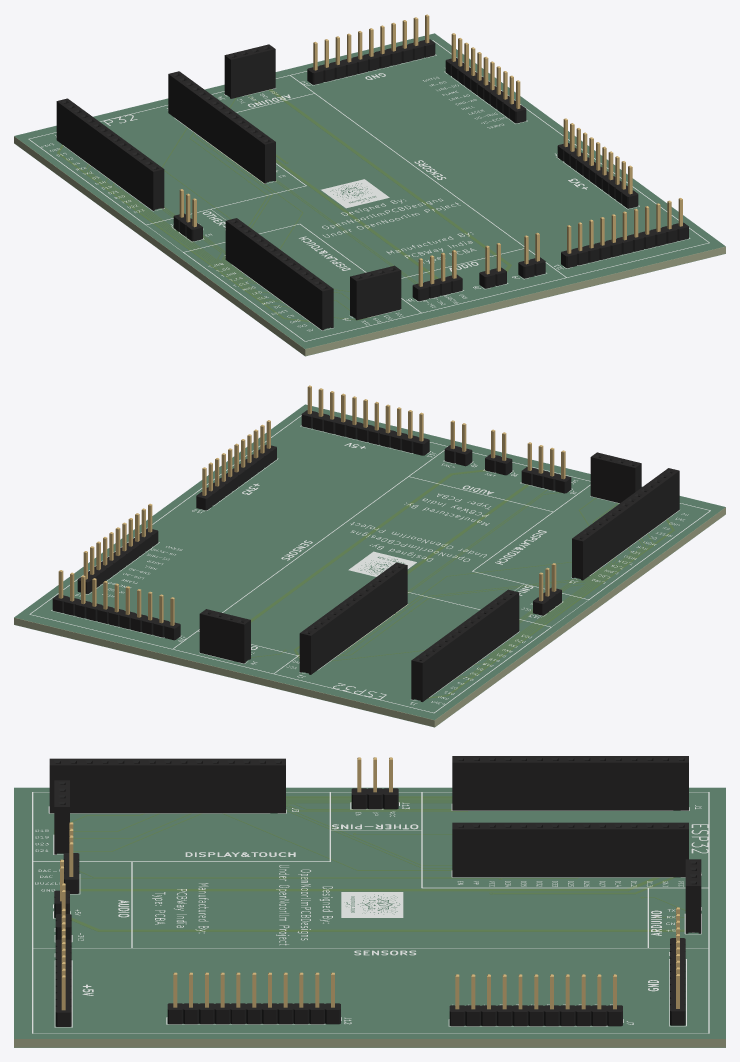
File: esp32connector.glb
3 views of the same model, one above another, from view 1: azimuth 30°, elevation 25°; view 2: azimuth 150°, elevation 25°; view 3: azimuth 270°, elevation 25° (orthographic). The views are drawn at different scales.
Visible parts, largest first — view 1: =>[0:1:1:18], =>[0:1:1:20], =>[0:1:1:3] (×3), =>[0:1:1:11] (×4), =>[0:1:1:17], =>[0:1:1:9] (×2), =>[0:1:1:14], =>[0:1:1:7] (×2), =>[0:1:1:13], =>[0:1:1:5]; view 2: =>[0:1:1:18], =>[0:1:1:20], =>[0:1:1:3] (×3), =>[0:1:1:11] (×4), =>[0:1:1:17], =>[0:1:1:9] (×2), =>[0:1:1:14], =>[0:1:1:7] (×2), =>[0:1:1:13], =>[0:1:1:5]; view 3: =>[0:1:1:18], =>[0:1:1:20], =>[0:1:1:3] (×3), =>[0:1:1:11] (×4), =>[0:1:1:17], =>[0:1:1:14], =>[0:1:1:9] (×2), =>[0:1:1:5], =>[0:1:1:13], =>[0:1:1:19], =>[0:1:1:7].
Part boxes in pixels (x1,y1,x2,y2): =>[0:1:1:18]: [14, 33, 725, 348]; =>[0:1:1:20]: [14, 34, 725, 356]; =>[0:1:1:3] (×3): [56, 71, 333, 330]; =>[0:1:1:11] (×4): [307, 14, 688, 268]; =>[0:1:1:17]: [28, 40, 709, 341]; =>[0:1:1:9] (×2): [224, 44, 401, 320]; =>[0:1:1:14]: [57, 90, 511, 321]; =>[0:1:1:7] (×2): [479, 232, 545, 288]; =>[0:1:1:13]: [412, 250, 462, 301]; =>[0:1:1:5]: [173, 189, 202, 241]; =>[0:1:1:18]: [14, 404, 725, 719]; =>[0:1:1:20]: [14, 405, 725, 727]; =>[0:1:1:3] (×3): [299, 468, 679, 701]; =>[0:1:1:11] (×4): [52, 385, 429, 640]; =>[0:1:1:17]: [29, 415, 710, 713]; =>[0:1:1:9] (×2): [199, 452, 641, 663]; =>[0:1:1:14]: [251, 470, 674, 697]; =>[0:1:1:7] (×2): [444, 420, 512, 475]; =>[0:1:1:13]: [521, 442, 571, 493]; =>[0:1:1:5]: [533, 563, 561, 615]; =>[0:1:1:18]: [14, 787, 725, 1038]; =>[0:1:1:20]: [14, 788, 725, 1047]; =>[0:1:1:3] (×3): [49, 756, 688, 877]; =>[0:1:1:11] (×4): [55, 907, 685, 1026]; =>[0:1:1:17]: [32, 792, 709, 1033]; =>[0:1:1:14]: [72, 797, 683, 931]; =>[0:1:1:9] (×2): [54, 780, 701, 933]; =>[0:1:1:5]: [351, 757, 398, 809]; =>[0:1:1:13]: [63, 822, 79, 893]; =>[0:1:1:19]: [14, 1047, 725, 1047]; =>[0:1:1:7]: [55, 883, 71, 939].
Bounding box in the file's own units: 0.0957 × 0.0116 × 0.1147.
